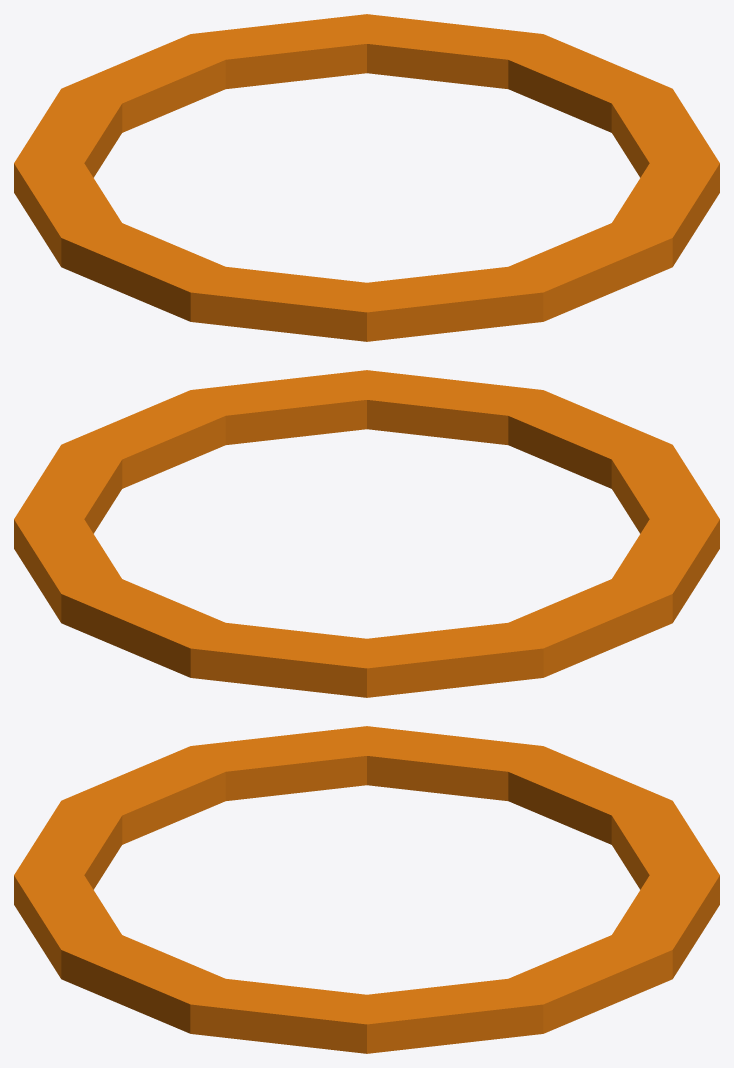
The model's file is pencilRing.FBX.
3 renders of one model, top to bottom at view 1: azimuth 30°, elevation 25°; view 2: azimuth 150°, elevation 25°; view 3: azimuth 270°, elevation 25°, orthographic.
Visible parts, largest first — view 1: Tube001; view 2: Tube001; view 3: Tube001.
Part boxes in pixels (x1,y1,x2,y2): Tube001: [14, 14, 719, 341]; Tube001: [14, 370, 719, 697]; Tube001: [14, 726, 719, 1053].
Bounding box in the file's own units: 3.9 × 0.1795 × 3.9.
